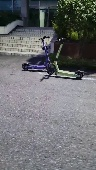beam: (21, 34, 54, 72)
gcooter: (47, 38, 89, 79)
